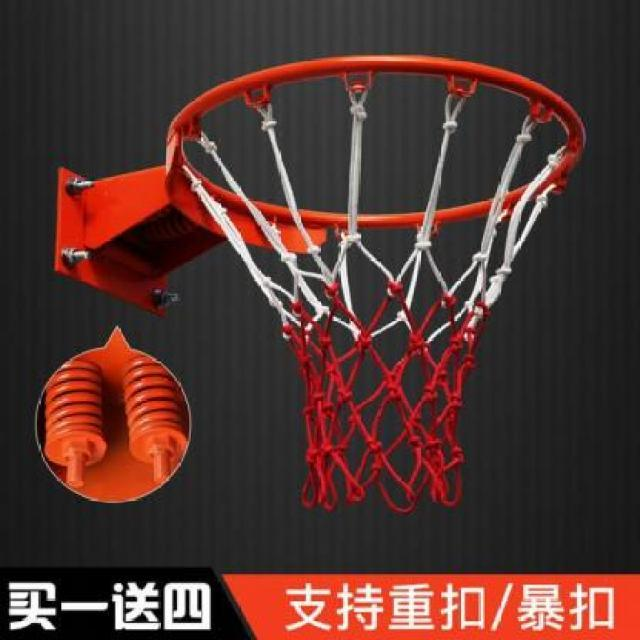rim: (176, 52, 584, 512)
